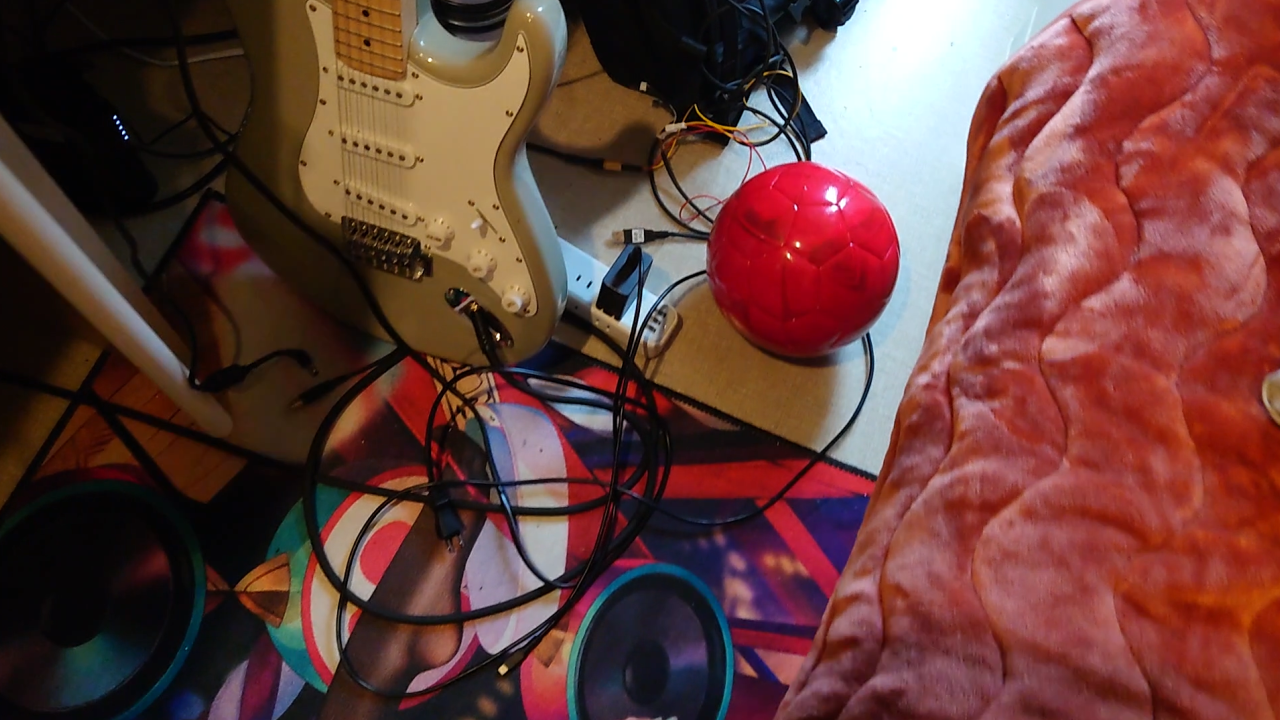red: (706, 164, 899, 356)
